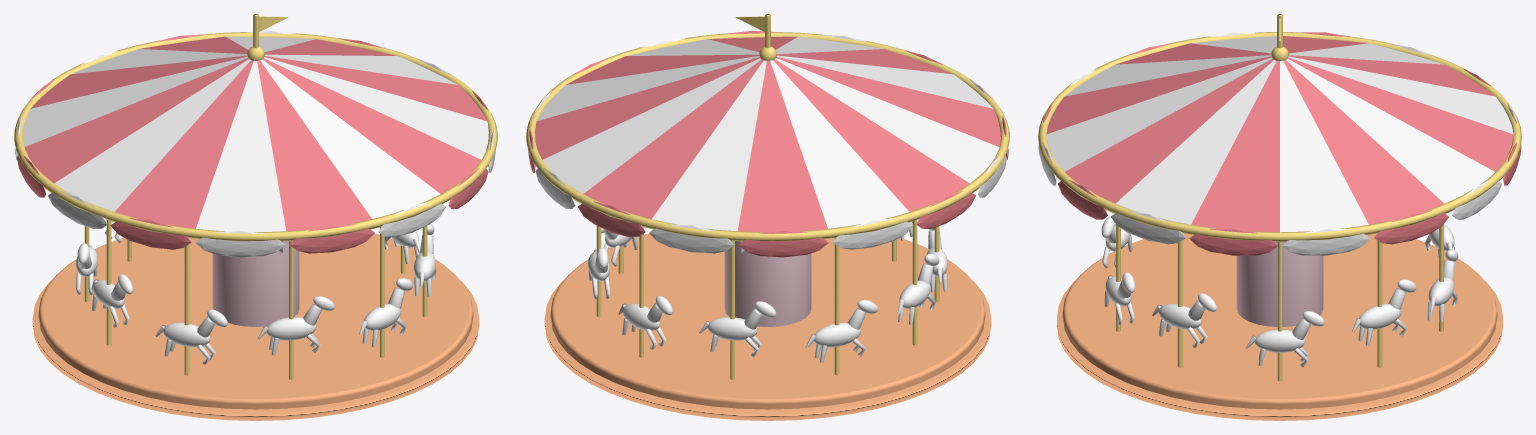
The model's file is RockinRacewayCarousel.glb.
The picture shows the model from 3 angles, left to right: view 1: azimuth 30°, elevation 25°; view 2: azimuth 150°, elevation 25°; view 3: azimuth 270°, elevation 25°; orthographic projection.
Visible parts, largest first — view 1: Deck, CanopyA, CanopyB, Poles, Horses, Center; view 2: Deck, CanopyB, CanopyA, Poles, Horses, Center; view 3: Deck, CanopyA, CanopyB, Poles, Horses, Center.
Part boxes in pixels (box(x1,y1,x2,y2)): Deck: box(32, 233, 479, 420); CanopyA: box(17, 34, 488, 253); CanopyB: box(15, 30, 495, 257); Poles: box(14, 14, 497, 379); Horses: box(75, 221, 436, 364); Center: box(212, 241, 299, 326); Deck: box(544, 233, 991, 420); CanopyB: box(535, 34, 1006, 253); CanopyA: box(528, 30, 1008, 257); Poles: box(526, 14, 1009, 379); Horses: box(588, 221, 947, 362); Center: box(724, 241, 811, 326); Deck: box(1057, 233, 1502, 420); CanopyA: box(1038, 32, 1521, 255); CanopyB: box(1038, 32, 1521, 255); Poles: box(1038, 14, 1521, 381); Horses: box(1101, 217, 1458, 367); Center: box(1236, 242, 1323, 326).
Size of the model in its own units: 24.5 by 17.4 by 24.5.
